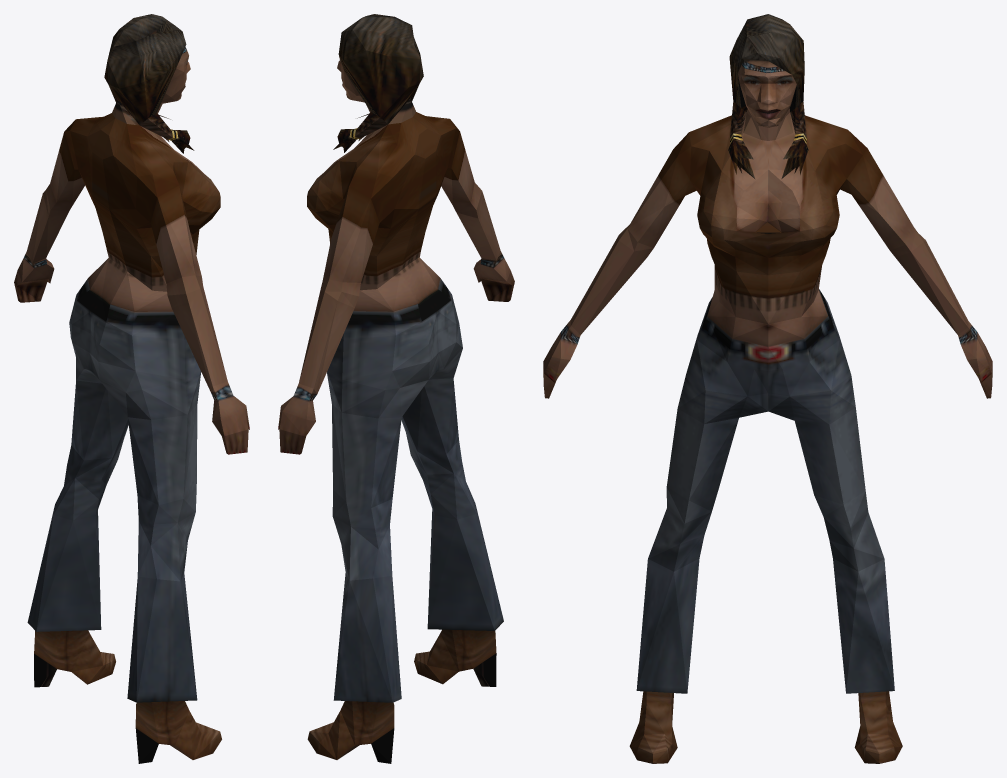
The model's file is dnfylc.obj.
The picture shows the model from 3 angles, left to right: view 1: azimuth 30°, elevation 25°; view 2: azimuth 150°, elevation 25°; view 3: azimuth 270°, elevation 25°; orthographic projection. The views are drawn at different scales.
Parts seen in each view (by area): view 1: _Pelvis; view 2: _Pelvis; view 3: _Pelvis.
Boxes of the visible parts, x1,y1,x2,y2 form: _Pelvis: (14,14,249,763); _Pelvis: (278,14,514,763); _Pelvis: (543,14,992,763).
Size of the model in its own units: 0.3194 by 1.78 by 0.9791.
1 material, 1 textured.
